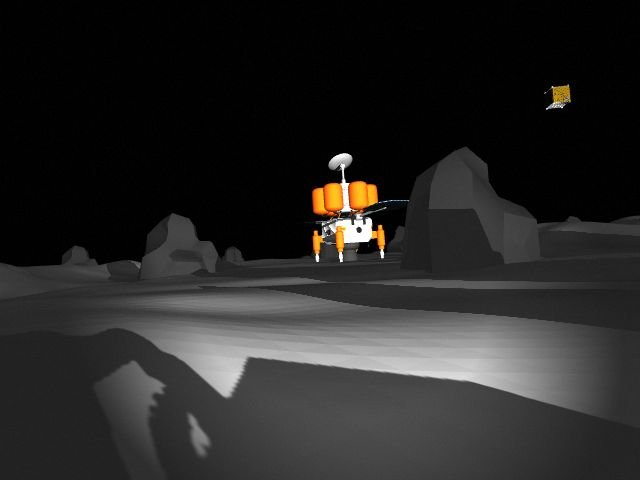homebase: (287, 151, 413, 263)
